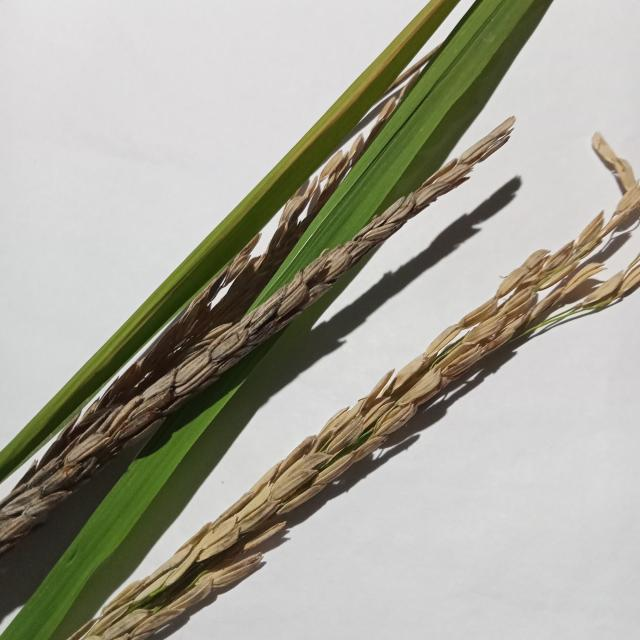Neck_Blast: (44, 139, 640, 640), (0, 118, 528, 565)
